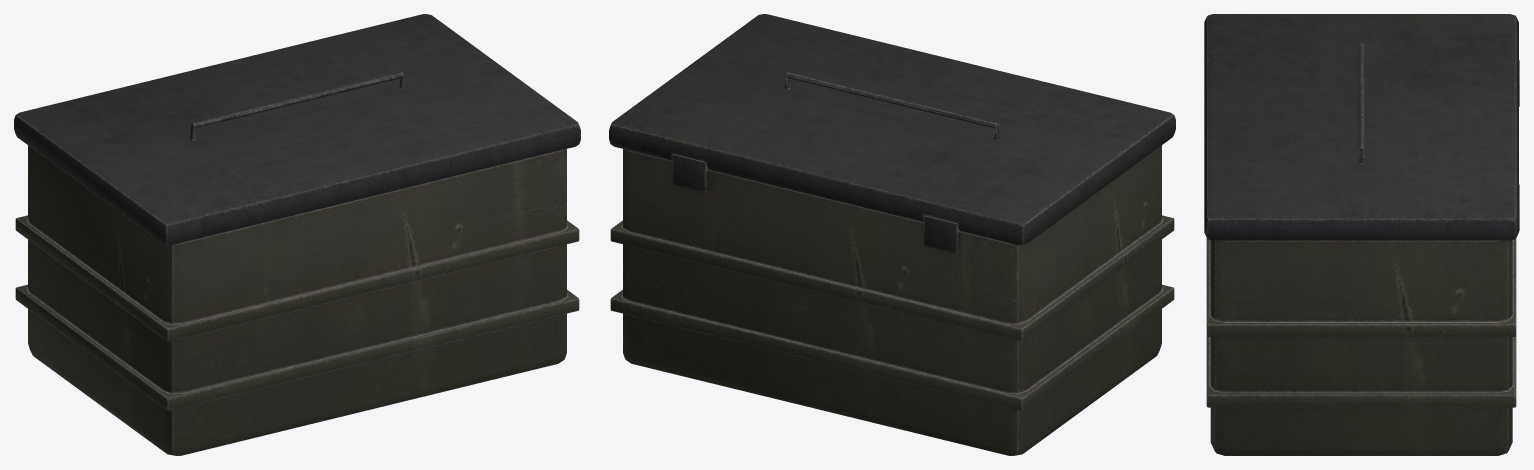
File: cadet_ammo_crate.glb
3 renders of one model, left to right at view 1: azimuth 30°, elevation 25°; view 2: azimuth 150°, elevation 25°; view 3: azimuth 270°, elevation 25°, orthographic.
Visible parts, largest first — view 1: cadet_ammo_crate; view 2: cadet_ammo_crate; view 3: cadet_ammo_crate.
Part boxes in pixels (x1,y1,x2,y2): cadet_ammo_crate: (14, 14, 580, 455); cadet_ammo_crate: (609, 14, 1175, 455); cadet_ammo_crate: (1204, 14, 1519, 455).
Size of the model in its own units: 0.64 by 0.384 by 0.411.
Materials: 1 (1 with a texture image).
